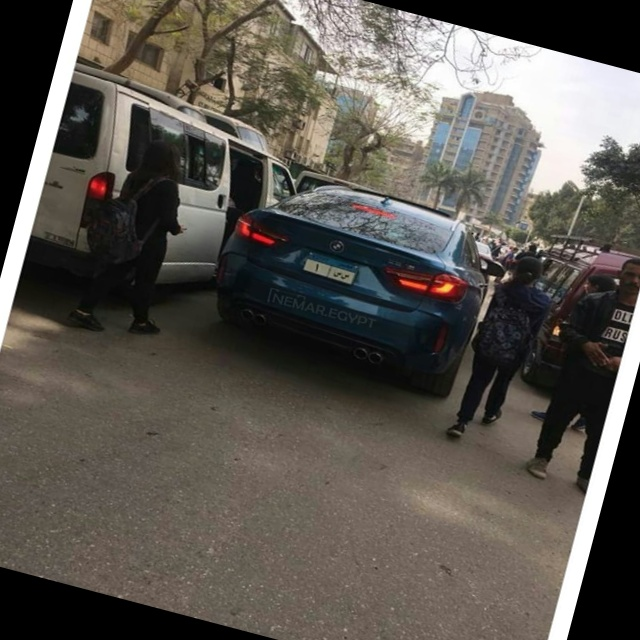License Plate: (299, 248, 362, 288)
